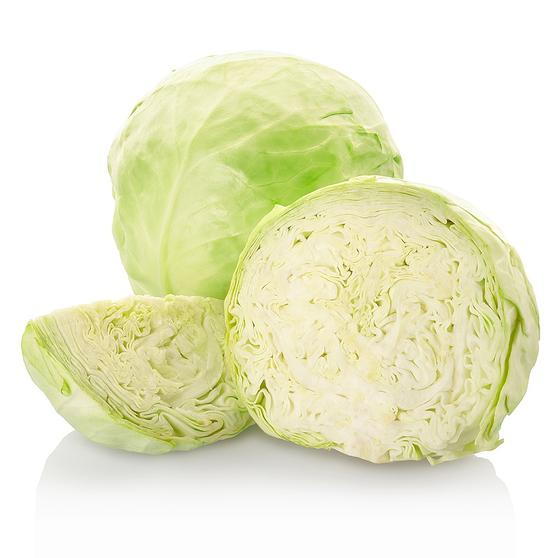cabbage: (107, 57, 405, 305)
